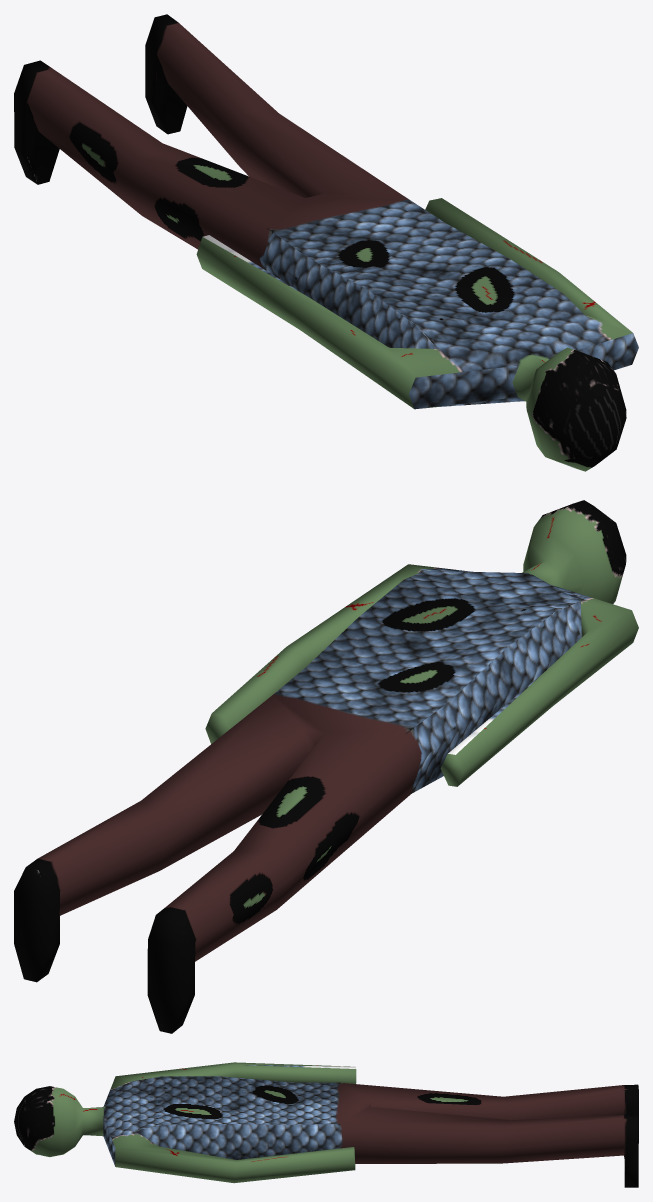
Rendered from zombie.obj.
3 renders of one model, top to bottom at view 1: azimuth 30°, elevation 25°; view 2: azimuth 150°, elevation 25°; view 3: azimuth 270°, elevation 25°, orthographic. The views are drawn at different scales.
Parts seen in each view (by area): view 1: Sphere_Sphere.001; view 2: Sphere_Sphere.001; view 3: Sphere_Sphere.001.
Part boxes in pixels (<box>): Sphere_Sphere.001: <box>14,14,638,471</box>; Sphere_Sphere.001: <box>14,500,638,1033</box>; Sphere_Sphere.001: <box>14,1062,638,1187</box>.
Bounding box in the file's own units: 0.5584 × 0.2947 × 1.77.
1 material, 1 textured.
